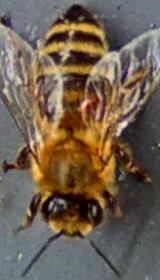varroa_mite: (68, 82, 120, 128)
